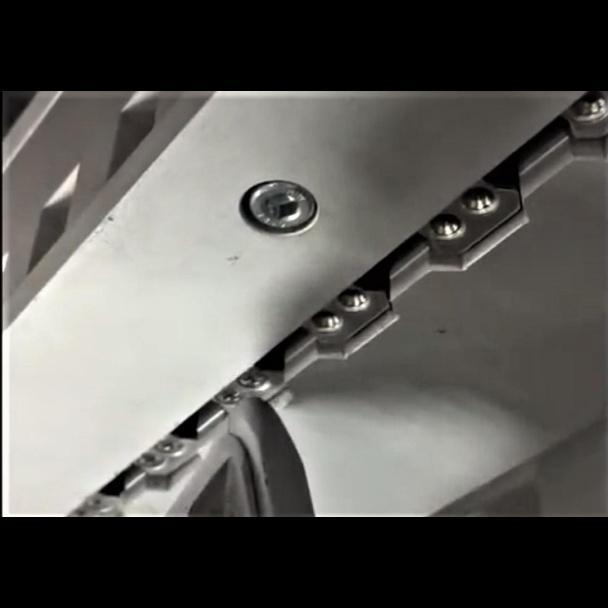hole: (455, 181, 500, 214), (425, 211, 465, 241), (333, 283, 369, 313), (307, 308, 343, 335)
